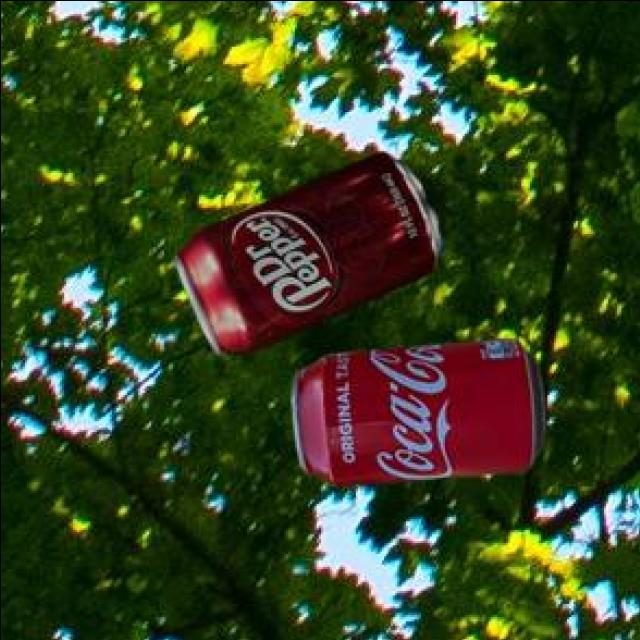logam: (169, 149, 441, 352), (288, 336, 543, 482)
